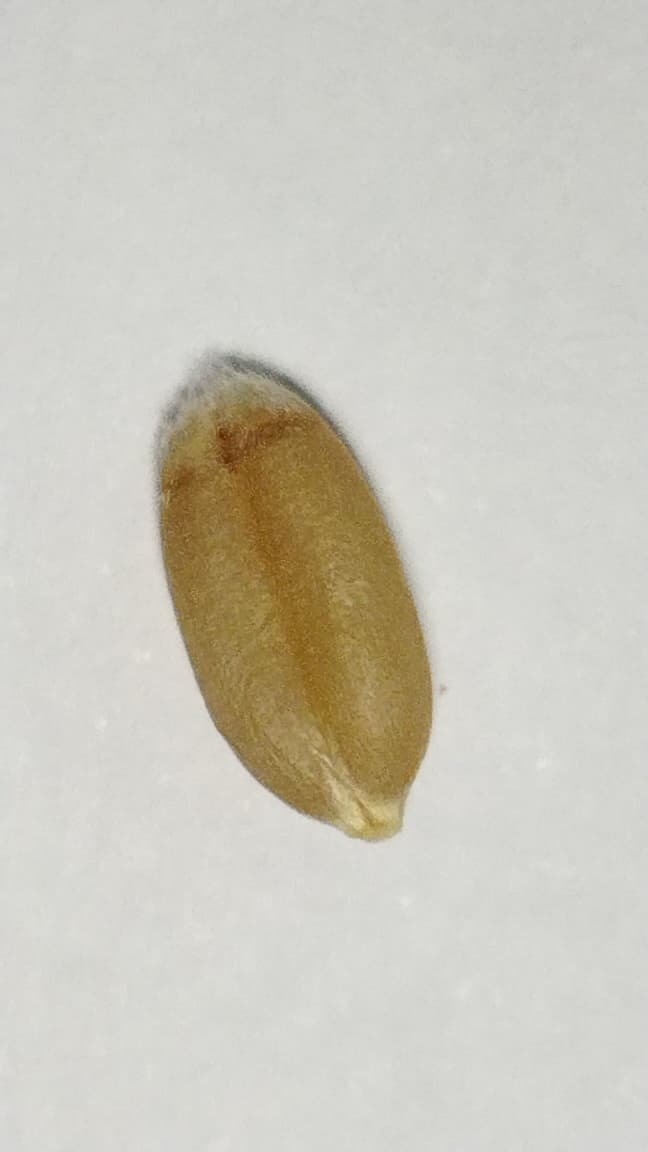healthy: (158, 357, 431, 840)
